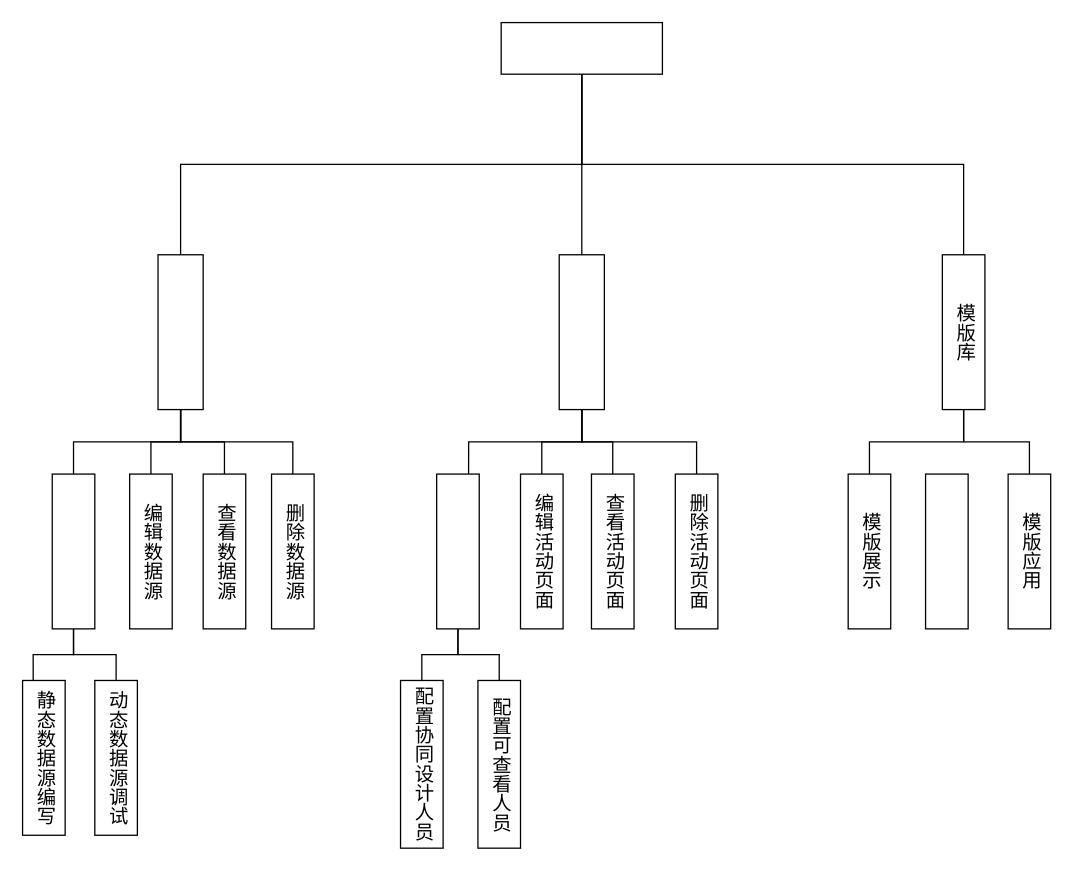
Image size: 1073x871. Some labels were removed from this diagram. The centre of each missing label's shape, as x and y in pixels:
"数据源管理" belongs at (x=180, y=331).
"新增数据源" belongs at (x=73, y=551).
"新增活动页面" belongs at (x=457, y=551).
"模版预览" belongs at (x=946, y=551).
"活动页面管理" belongs at (x=581, y=331).
"用户模块" belongs at (x=581, y=47).
